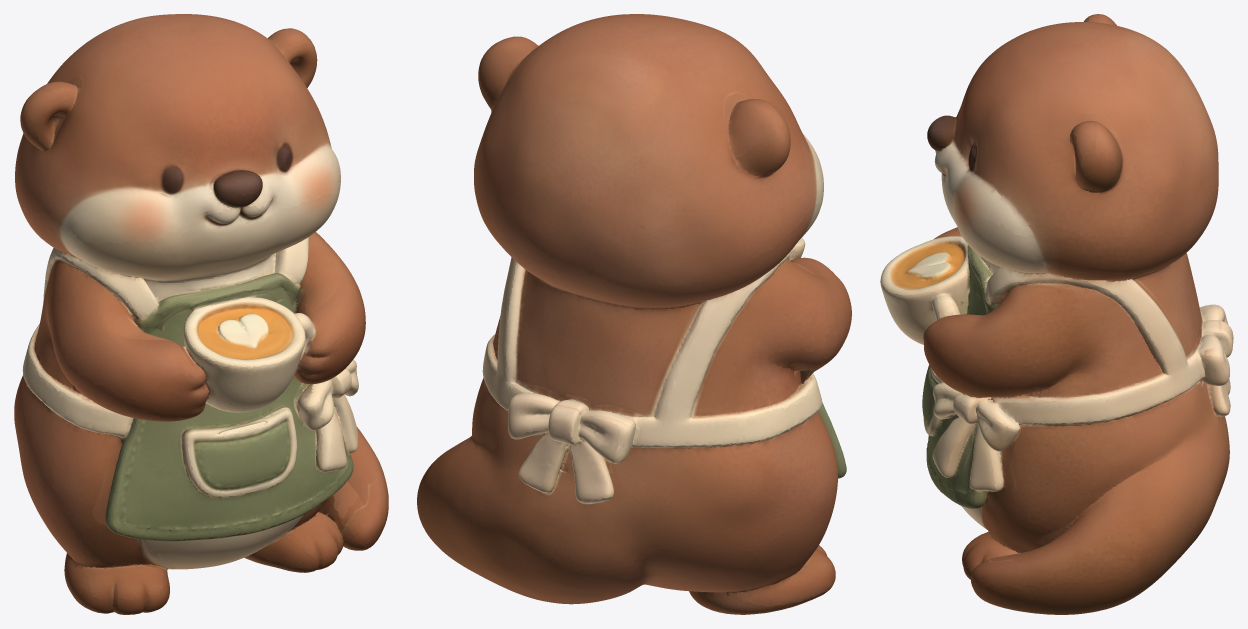
The picture shows the model from 3 angles, left to right: view 1: azimuth 30°, elevation 25°; view 2: azimuth 150°, elevation 25°; view 3: azimuth 270°, elevation 25°; orthographic projection. The views are drawn at different scales.
Parts seen in each view (by area): view 1: geometry_0; view 2: geometry_0; view 3: geometry_0.
Part boxes in pixels (x1=…): geometry_0: x1=14, y1=14, x2=388, y2=614; geometry_0: x1=417, y1=14, x2=851, y2=614; geometry_0: x1=880, y1=14, x2=1233, y2=614.
Bounding box in the file's own units: 0.1033 × 0.15 × 0.096.
1 material, 1 textured.
